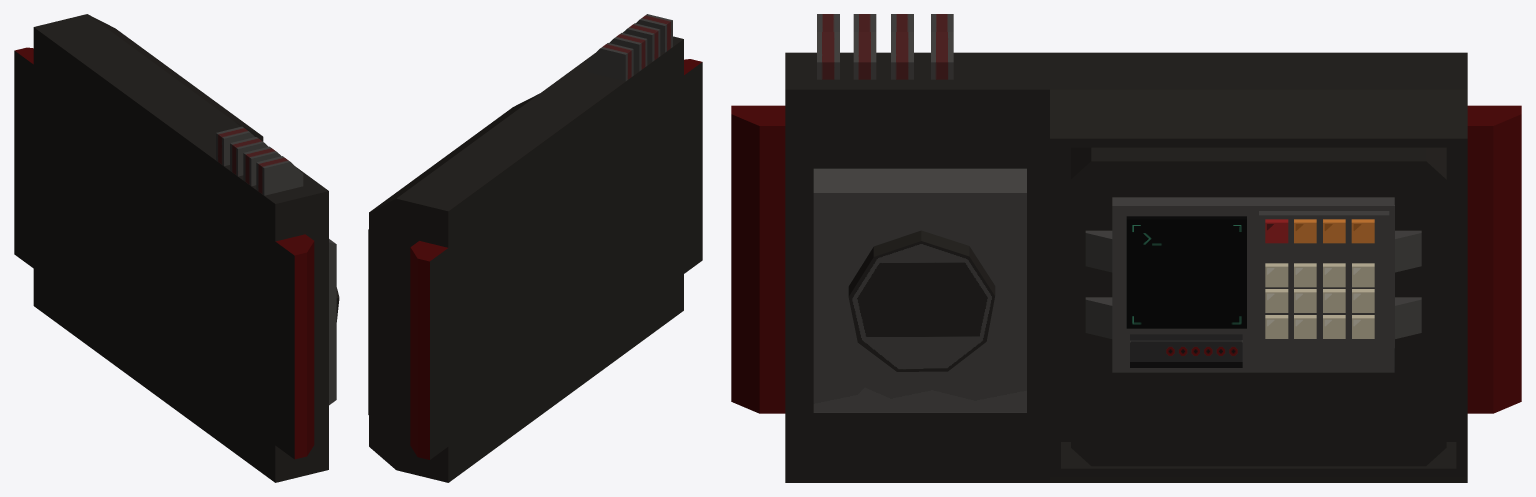
Rendered from calistoColnsole.obj.
3 renders of one model, left to right at view 1: azimuth 30°, elevation 25°; view 2: azimuth 150°, elevation 25°; view 3: azimuth 270°, elevation 25°, orthographic. The views are drawn at different scales.
Visible parts, largest first — view 1: Cube.012, Cube.013, Cube.004, Cube.023, Cube.022, Cube.021; view 2: Cube.012, Cube.023, Cube.022, Cube.021, Cube.013; view 3: Cube.012, Cube.004, Cube, Cylinder, Cube.001, Cube.021, Cube.013, Cube.022, Cube.023.
Boxes of the visible parts, bbox=[...] form: Cube.012: bbox=[14, 14, 328, 482]; Cube.013: bbox=[256, 156, 303, 195]; Cube.004: bbox=[329, 239, 336, 405]; Cube.023: bbox=[216, 126, 254, 165]; Cube.022: bbox=[230, 137, 268, 176]; Cube.021: bbox=[243, 146, 281, 186]; Cube.012: bbox=[368, 36, 702, 482]; Cube.023: bbox=[587, 43, 633, 81]; Cube.022: bbox=[609, 33, 647, 71]; Cube.021: bbox=[623, 23, 660, 61]; Cube.013: bbox=[636, 14, 672, 52]; Cube.012: bbox=[731, 52, 1521, 482]; Cube.004: bbox=[813, 168, 1026, 412]; Cube: bbox=[1085, 197, 1421, 372]; Cylinder: bbox=[848, 230, 995, 371]; Cube.001: bbox=[1126, 216, 1246, 328]; Cube.021: bbox=[853, 14, 876, 79]; Cube.013: bbox=[817, 14, 839, 79]; Cube.022: bbox=[891, 14, 913, 79]; Cube.023: bbox=[931, 14, 953, 79].
Size of the model in its own units: 1.29 by 3.24 by 5.38.
Materials: 25 (25 with a texture image).
